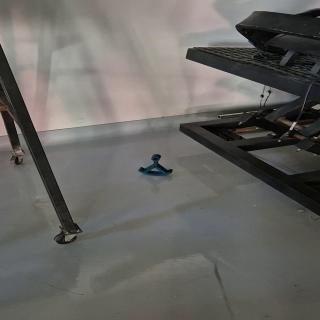haptic: (138, 154, 174, 176)
